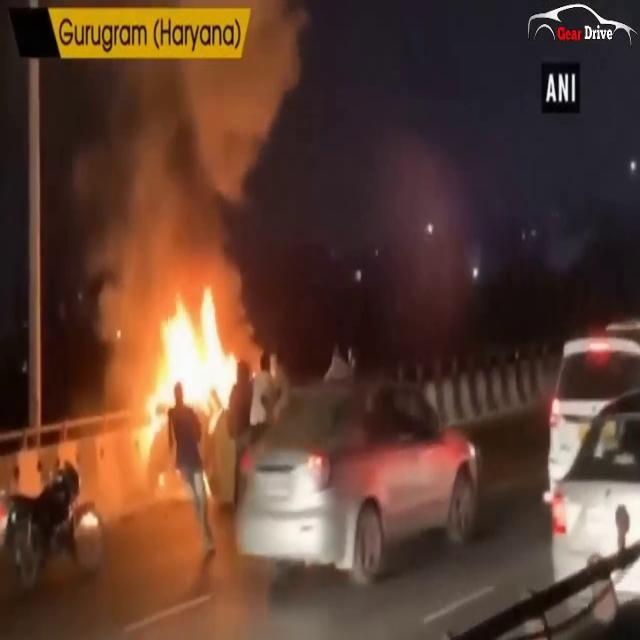Fire: (126, 276, 245, 457)
Smoke: (59, 58, 300, 304)
